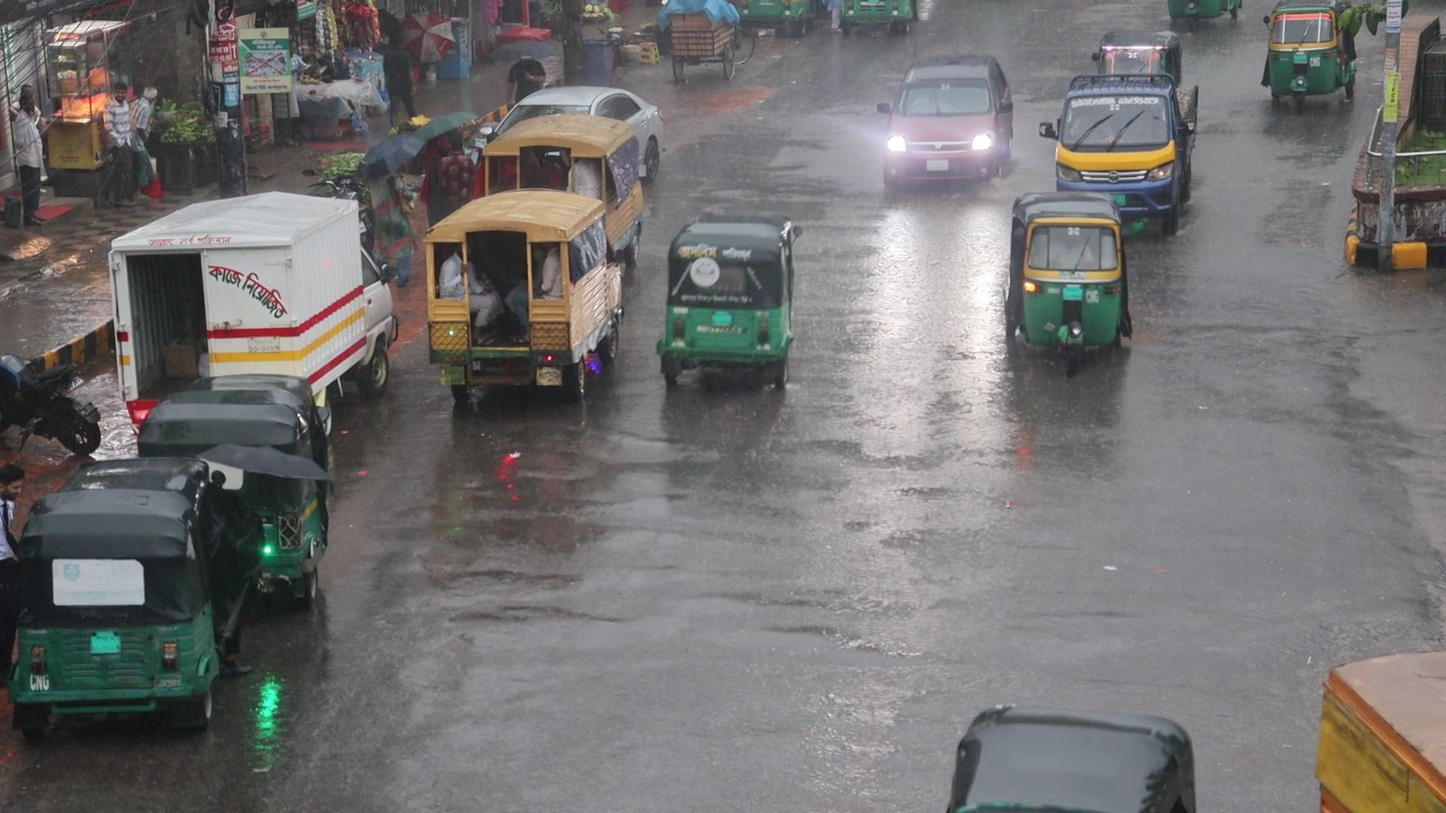Car: (877, 51, 1013, 193)
Truck: (418, 183, 619, 402), (1047, 74, 1197, 225)
